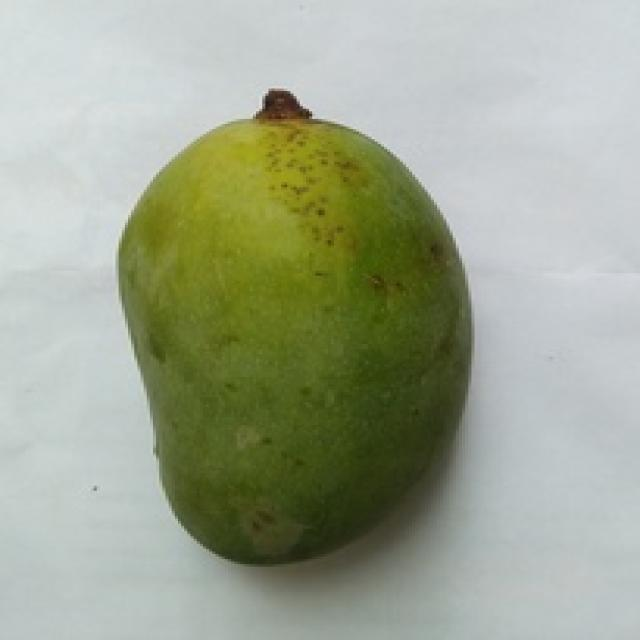Mango: (119, 109, 468, 562)
